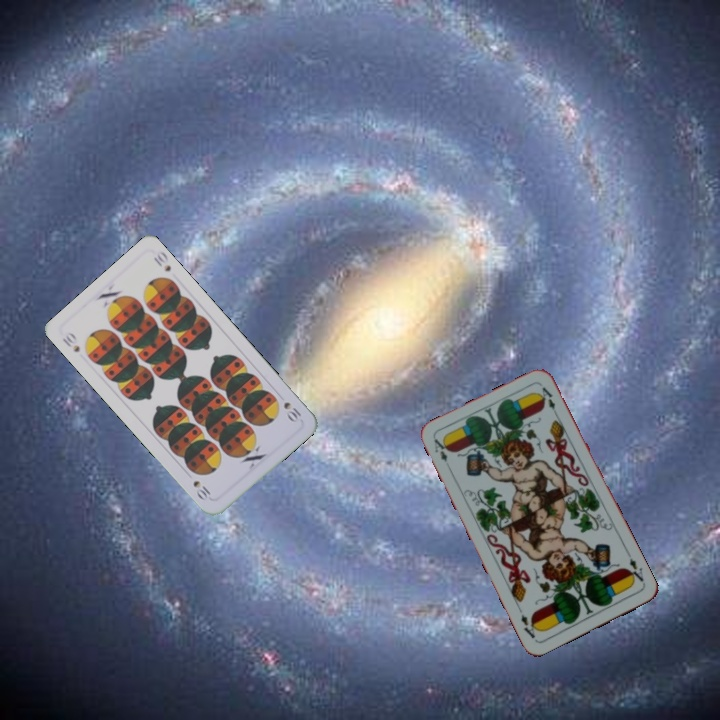EA: (430, 435, 454, 472), (623, 549, 646, 585)
S10: (279, 398, 305, 425), (58, 328, 83, 355)
